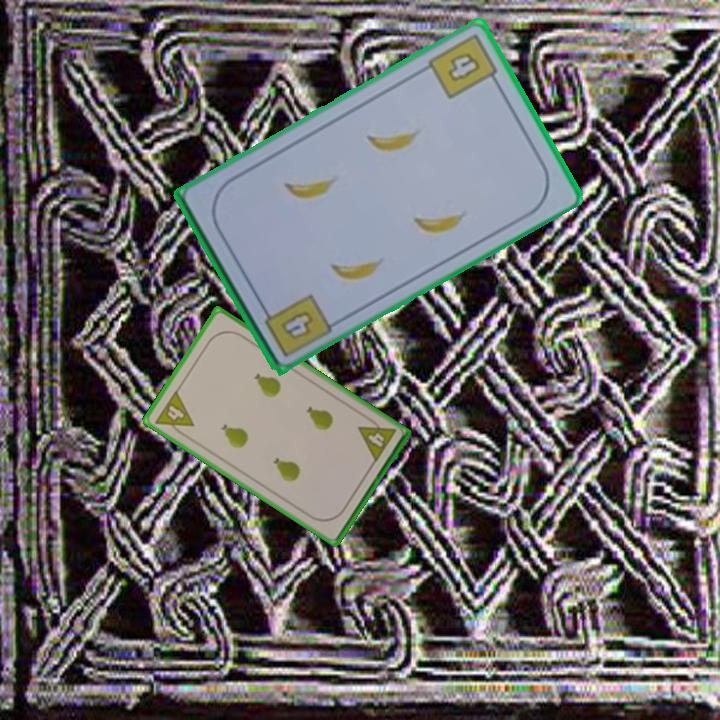4b: (424, 30, 503, 102), (257, 289, 335, 360)
4p: (151, 387, 197, 440), (354, 413, 399, 465)
